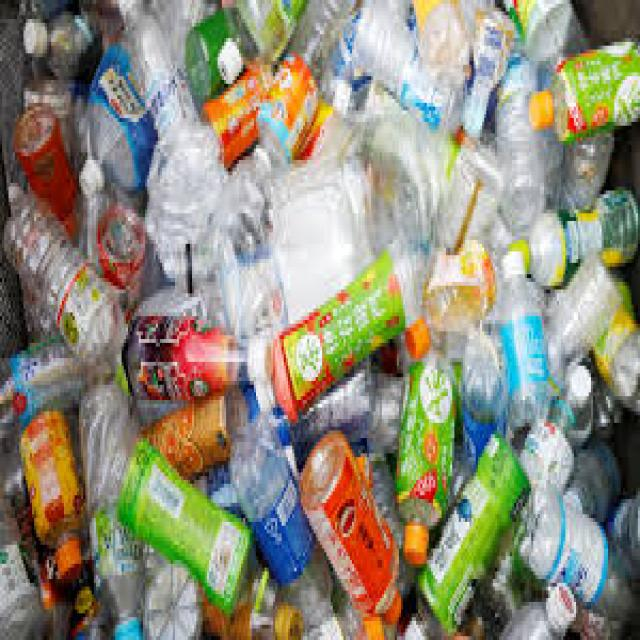plastic_bottle: (417, 360, 557, 640), (251, 248, 442, 431), (102, 421, 265, 619)
